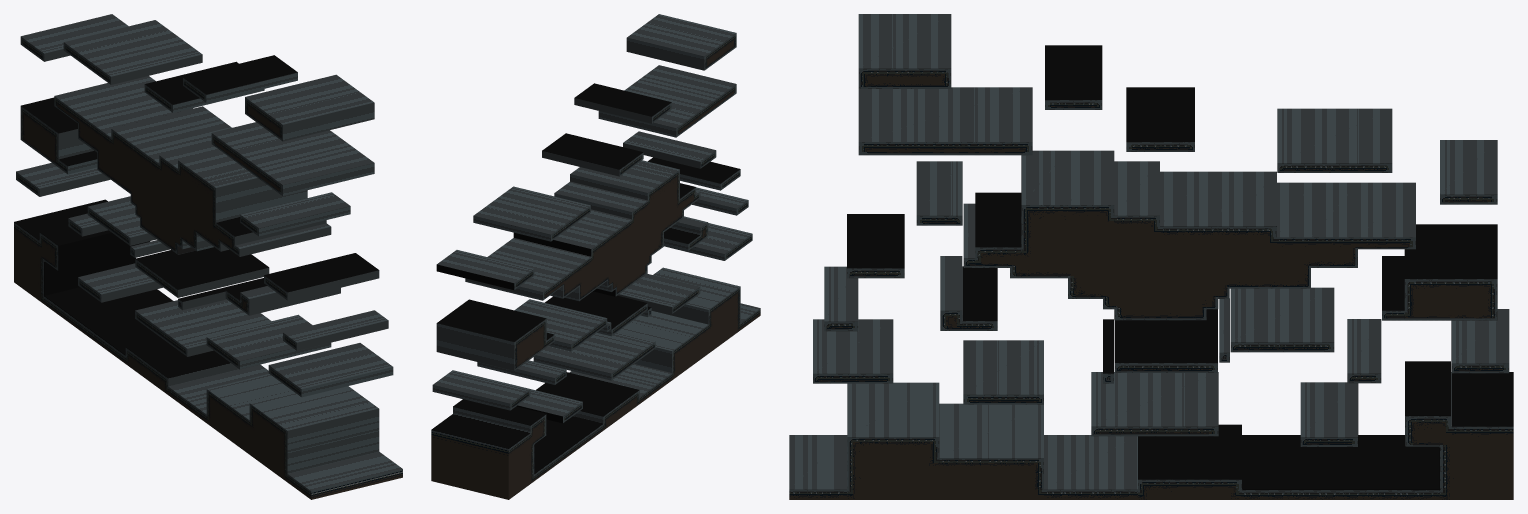
Rendered from level 2.glb.
3 views of the same model, side by side, from view 1: azimuth 30°, elevation 25°; view 2: azimuth 150°, elevation 25°; view 3: azimuth 270°, elevation 25° (orthographic). The views are drawn at different scales.
Parts seen in each view (by area): view 1: Cube, Cube.001; view 2: Cube, Cube.001; view 3: Cube, Cube.001.
Boxes of the visible parts, bbox=[...] form: Cube: bbox=[16, 14, 402, 499]; Cube.001: bbox=[14, 199, 238, 394]; Cube: bbox=[432, 14, 760, 423]; Cube.001: bbox=[431, 372, 639, 499]; Cube: bbox=[789, 14, 1509, 499]; Cube.001: bbox=[1138, 361, 1513, 499].
Size of the model in its own units: 0.8878 by 3.28 by 4.99.
1 material, 1 textured.
